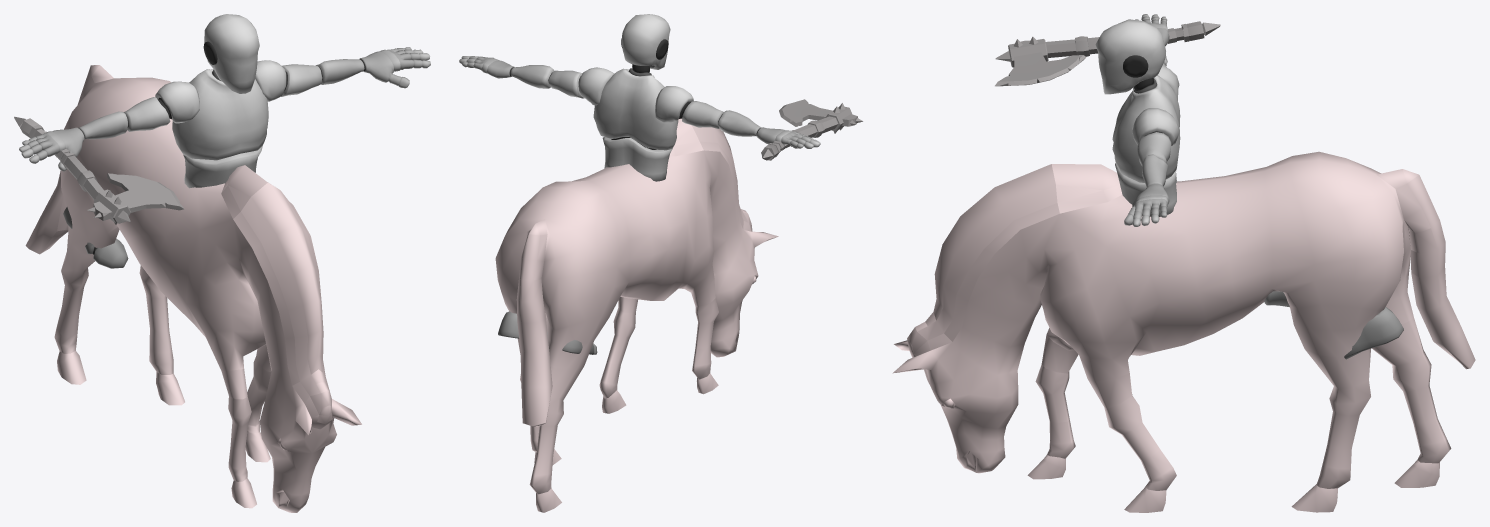
File: troop_cavalry.glb
3 views of the same model, side by side, from view 1: azimuth 30°, elevation 25°; view 2: azimuth 150°, elevation 25°; view 3: azimuth 270°, elevation 25° (orthographic). The views are drawn at different scales.
Visible parts, largest first — view 1: troop_cavalry; view 2: troop_cavalry; view 3: troop_cavalry.
Part boxes in pixels (x1,y1,x2,y2): troop_cavalry: (14,14,430,512); troop_cavalry: (459,14,863,512); troop_cavalry: (892,14,1475,512).
Size of the model in its own units: 1.62 by 1.72 by 1.92.
Materials: 3 (3 with a texture image).
